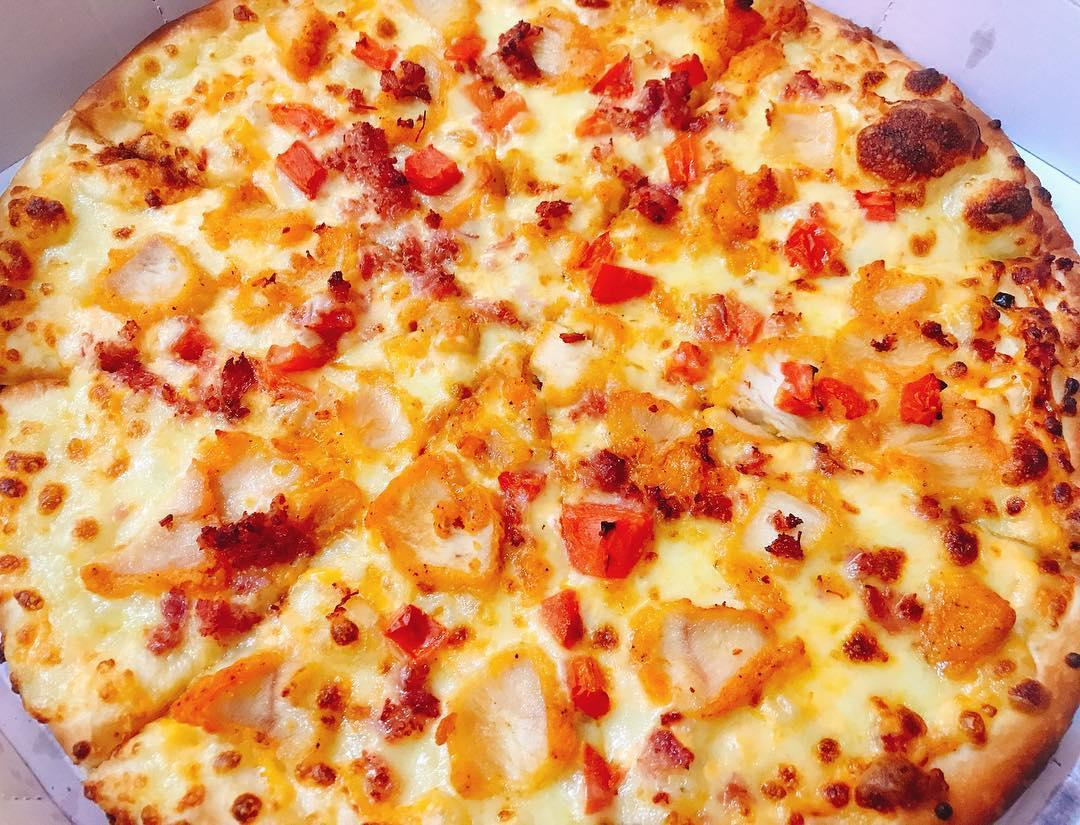Chicken: (442, 649, 569, 800), (85, 459, 227, 593), (371, 451, 505, 590), (637, 599, 794, 717), (449, 341, 555, 472), (606, 392, 707, 507), (730, 480, 835, 585), (168, 646, 282, 741), (923, 568, 1016, 678), (93, 233, 203, 322), (341, 368, 428, 451), (264, 0, 344, 86), (528, 6, 603, 92), (764, 101, 845, 171), (856, 264, 936, 314)
Pizza: (0, 0, 1080, 825)
Tomatoes: (559, 497, 657, 581), (776, 365, 872, 421), (383, 602, 455, 662), (274, 139, 331, 199), (400, 145, 465, 196), (586, 262, 660, 305), (568, 656, 615, 721), (897, 371, 948, 430), (578, 743, 620, 813), (539, 589, 588, 648), (661, 130, 701, 190), (850, 185, 901, 225)
